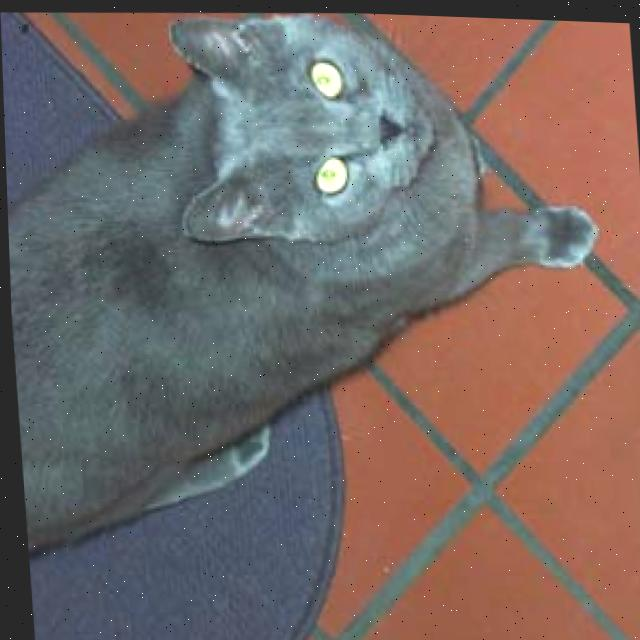Russian Blue: (0, 0, 630, 640)
